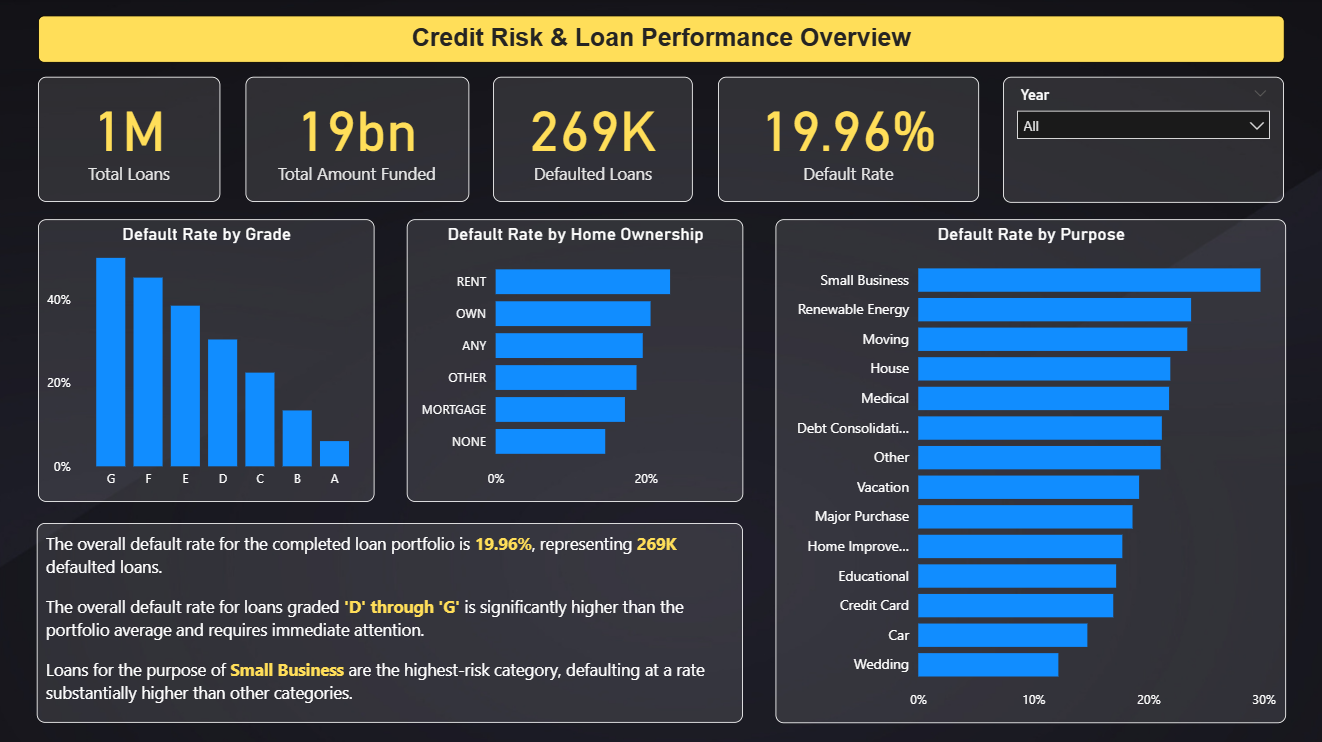

What the dashboard file says about the page in this screenshot:
{"tool":"powerbi","page":{"name":"Credit Risk & Loan Performance Overview","canvas":[1280,720],"ordinal":0},"visuals":[{"type":"textbox","box":[38.3,16.7,1203.3,45.8],"z":0},{"type":"cardVisual","fields":{"Data":["Key Measures.Total Loans"]},"box":[38.6,76,176.1,120.6],"z":1000},{"type":"cardVisual","fields":{"Data":["Key Measures.Total Amount Funded"]},"box":[238.3,75.9,216,120.6],"z":2000},{"type":"cardVisual","fields":{"Data":["Key Measures.Defaulted Loans"]},"box":[477.8,75.9,193,120.6],"z":3000},{"type":"cardVisual","fields":{"Data":["Key Measures.Default Rate"]},"box":[694.3,75.9,252.1,120.6],"z":4000},{"type":"columnChart","title":"Default Rate by Grade","fields":{"Y":["Key Measures.Default Rate"],"Category":["accepted_2007_to_2018Q4.grade"]},"box":[38.2,214.1,324.5,272.7],"z":5000},{"type":"barChart","title":"Default Rate by Home Ownership","fields":{"Category":["accepted_2007_to_2018Q4.home_ownership"],"Y":["Key Measures.Default Rate"]},"box":[394.1,214.1,324.5,272.7],"z":6000},{"type":"barChart","title":"Default Rate by Purpose","fields":{"Y":["Key Measures.Default Rate"],"Category":["accepted_2007_to_2018Q4.purpose"]},"box":[750,213,492.5,486.2],"z":7000},{"type":"slicer","fields":{"Values":["accepted_2007_to_2018Q4.Year"]},"box":[970,76.2,271.2,121.2],"z":8000},{"type":"textbox","box":[37.5,506.2,681.2,192.5],"z":9000}]}

Visuals, with their boxes in screenshot pixels (x1, y1, x2, y2), scaled from the page's 1280x720 canvas onto the 1322x742 screenshot:
textbox: [x1=40, y1=17, x2=1282, y2=64]
cardVisual - Key Measures.Total Loans: [x1=40, y1=78, x2=222, y2=203]
cardVisual - Key Measures.Total Amount Funded: [x1=246, y1=78, x2=469, y2=203]
cardVisual - Key Measures.Defaulted Loans: [x1=493, y1=78, x2=693, y2=203]
cardVisual - Key Measures.Default Rate: [x1=717, y1=78, x2=977, y2=203]
"Default Rate by Grade" columnChart: [x1=39, y1=221, x2=375, y2=502]
"Default Rate by Home Ownership" barChart: [x1=407, y1=221, x2=742, y2=502]
"Default Rate by Purpose" barChart: [x1=775, y1=220, x2=1283, y2=721]
slicer - accepted_2007_to_2018Q4.Year: [x1=1002, y1=79, x2=1282, y2=203]
textbox: [x1=39, y1=522, x2=742, y2=720]
